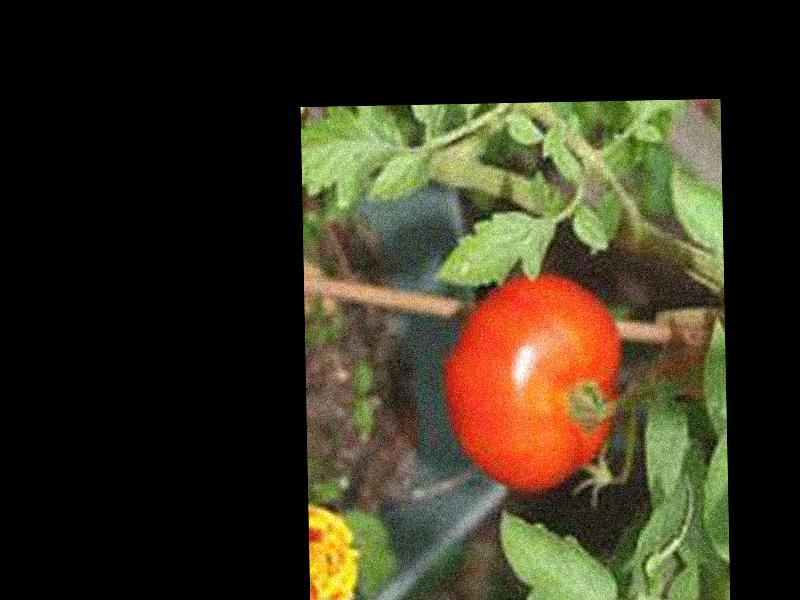Tomato: (445, 269, 625, 495)
